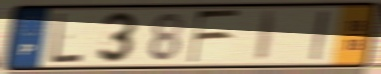3: (97, 10, 139, 65)
8: (147, 12, 185, 63)
F: (187, 8, 243, 65)
I: (253, 9, 280, 64), (308, 9, 330, 62)
L: (49, 11, 85, 66)
